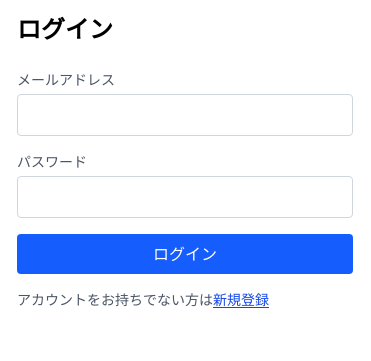
it: LoginPage › ApiError以外なら固定の文言を表示する
Type "user@example.com" into the field labelled "メールアドレス".
click(185, 115); type("user@example.com")  # box [17,94,353,136]
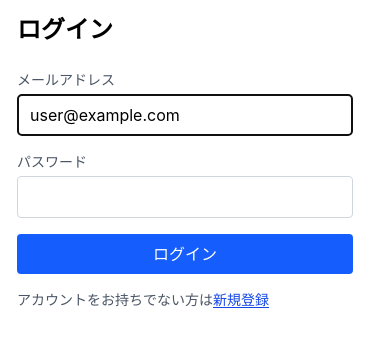
Type "password123" into the password field labelled "パスワード".
click(185, 197); type("password123")  # box [17,176,353,218]
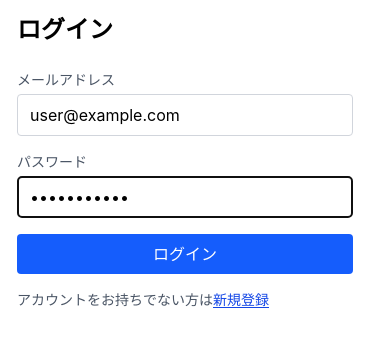
Click the button "ログイン".
click(185, 254)  # box [17,234,353,274]
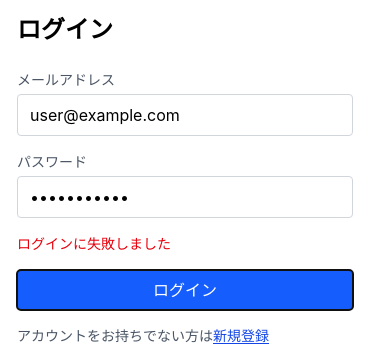
Expected: the text "ログインに失敗しました" is shown, [17,235,171,252]
